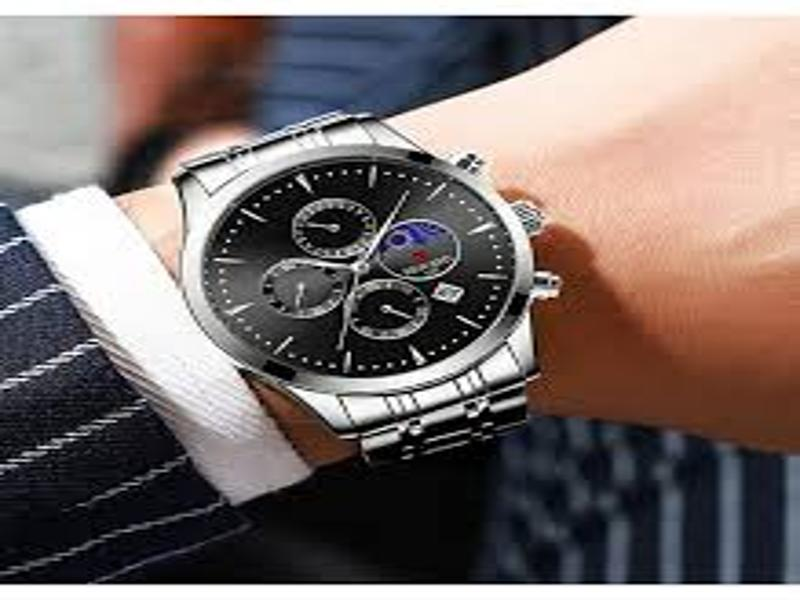watch: (163, 109, 563, 468)
